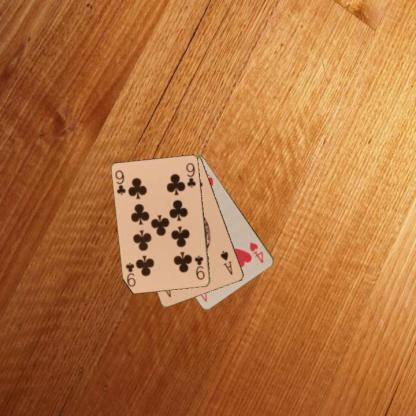4h: (247, 240, 265, 264)
9c: (192, 253, 206, 281), (113, 168, 127, 196)
As: (218, 248, 234, 276)
